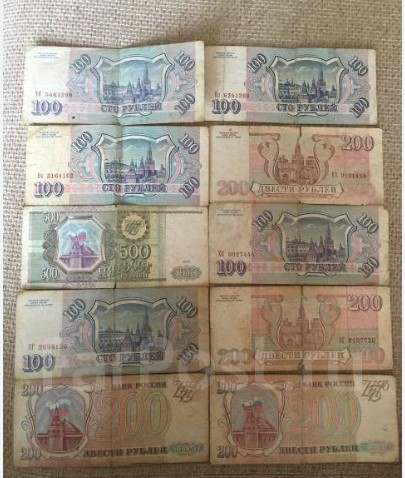cash: (12, 374, 208, 469), (14, 288, 209, 379), (210, 374, 398, 465), (209, 285, 392, 371), (25, 123, 209, 207), (21, 208, 209, 290), (22, 40, 205, 124), (209, 205, 388, 285), (205, 46, 377, 124), (210, 127, 383, 203)
